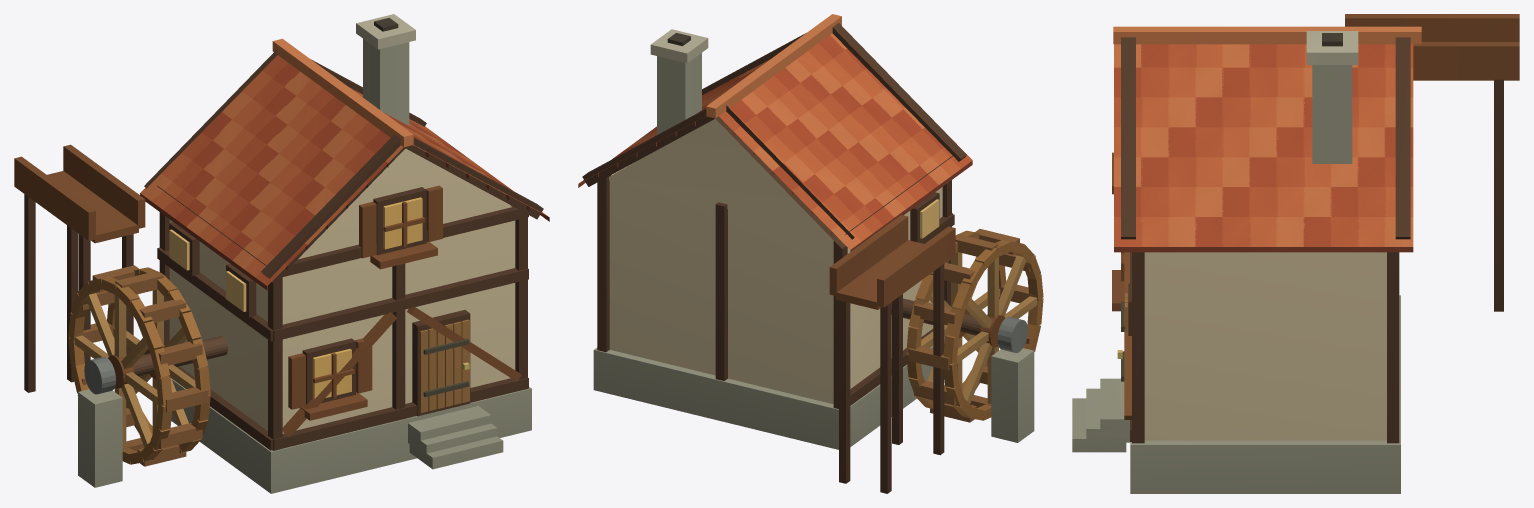
The model's file is moinho_mapa.glb.
3 views of the same model, side by side, from view 1: azimuth 30°, elevation 25°; view 2: azimuth 150°, elevation 25°; view 3: azimuth 270°, elevation 25° (orthographic). The views are drawn at different scales.
Visible parts, largest first — view 1: Estrutura, Roda; view 2: Estrutura, Roda; view 3: Estrutura.
Boxes of the visible parts, <box> form: Estrutura: <box>14,14,549,493</box>; Roda: <box>68,265,210,466</box>; Estrutura: <box>578,14,1034,493</box>; Roda: <box>906,229,1043,422</box>; Estrutura: <box>1072,14,1519,493</box>.
Bounding box in the file's own units: 6.52 × 5.59 × 5.38.
